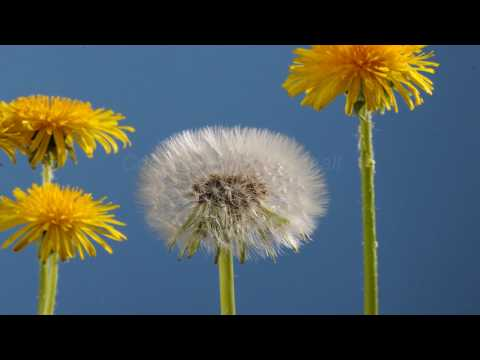dandelion: (3, 93, 130, 170), (9, 188, 124, 262), (294, 54, 429, 116)
